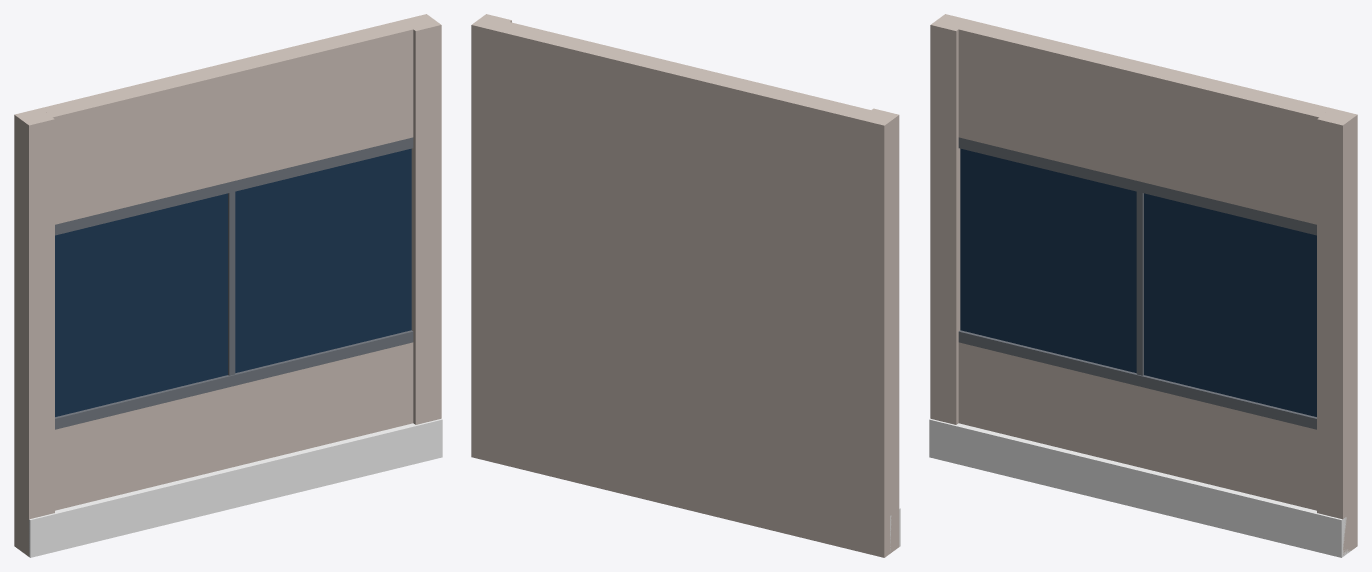
The model's file is mid-w1.fbx.
3 renders of one model, left to right at view 1: azimuth 30°, elevation 25°; view 2: azimuth 150°, elevation 25°; view 3: azimuth 330°, elevation 25°, orthographic.
Parts seen in each view (by area): view 1: a1051_mid-w1; view 2: a1051_mid-w1; view 3: a1051_mid-w1.
Part boxes in pixels (x1=…): a1051_mid-w1: x1=14, y1=14, x2=442, y2=557; a1051_mid-w1: x1=471, y1=14, x2=900, y2=557; a1051_mid-w1: x1=929, y1=14, x2=1357, y2=557.
Size of the model in its own units: 4 by 4 by 0.27.
